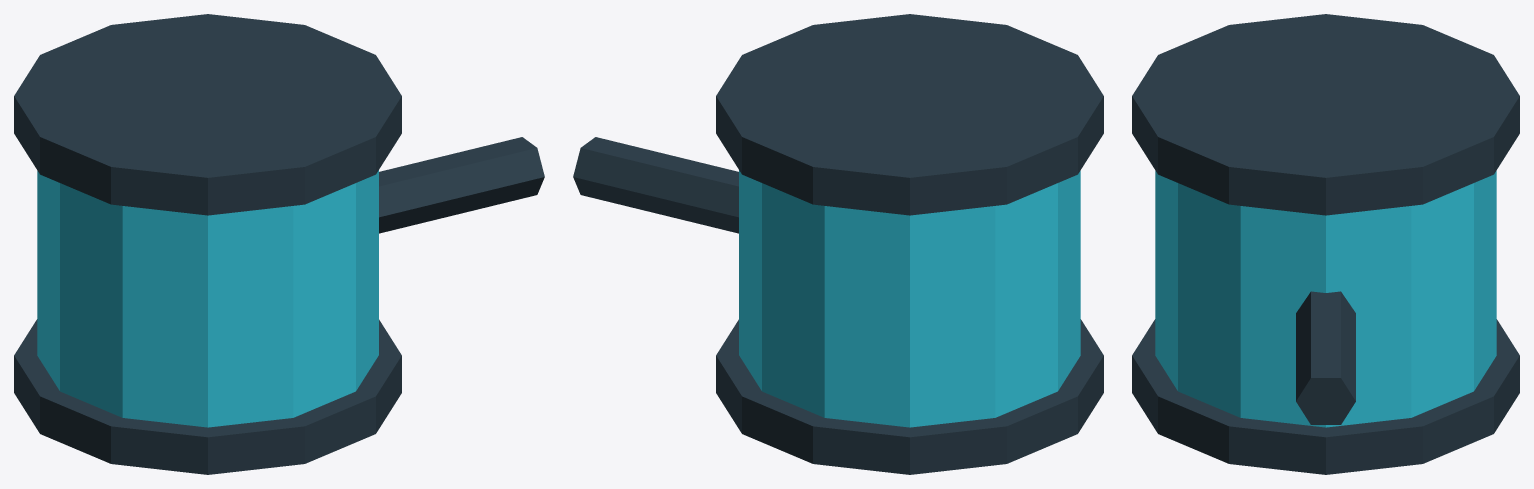
Rendered from jelly_machine.glb.
3 views of the same model, side by side, from view 1: azimuth 30°, elevation 25°; view 2: azimuth 150°, elevation 25°; view 3: azimuth 270°, elevation 25° (orthographic).
Visible parts, largest first — view 1: jelly_machine; view 2: jelly_machine; view 3: jelly_machine.
Boxes of the visible parts, x1,y1,x2,y2 form: jelly_machine: [14, 14, 544, 474]; jelly_machine: [573, 14, 1103, 474]; jelly_machine: [1132, 14, 1519, 474].
Bounding box in the file's own units: 2.45 × 1.42 × 1.68.
